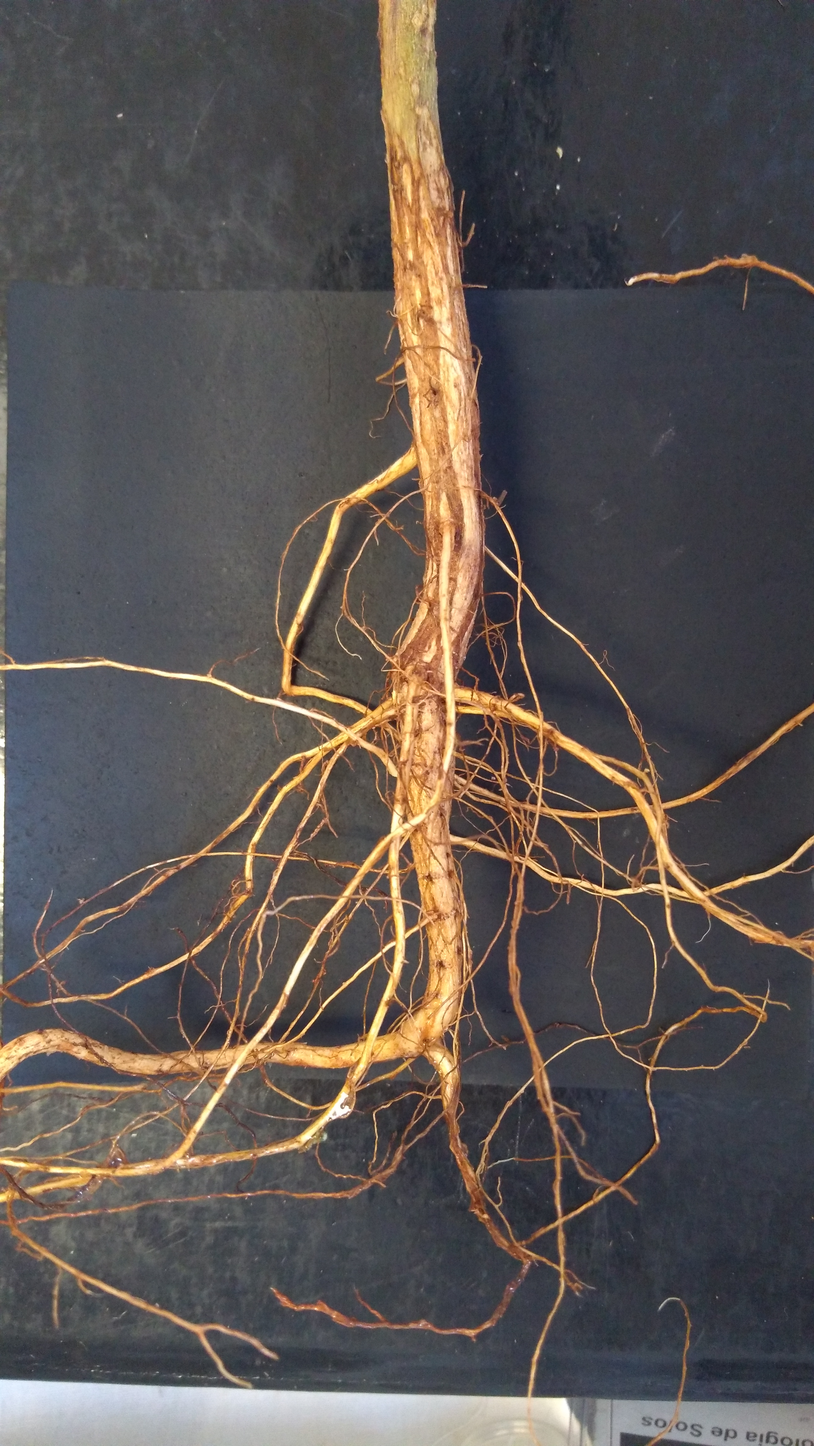nodule: (403, 661, 430, 685), (392, 679, 408, 706), (401, 681, 424, 698), (490, 496, 499, 506), (349, 740, 358, 747)
